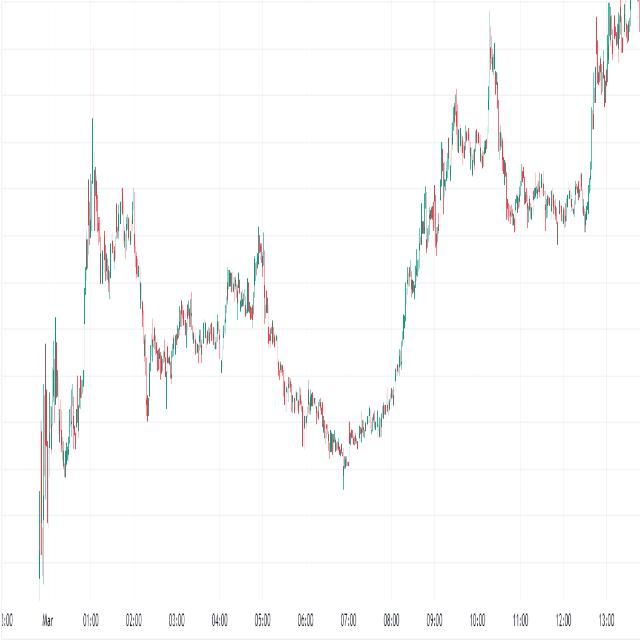Rounding-Bottom: (262, 276, 409, 477)
rectangle: (502, 167, 593, 242)
